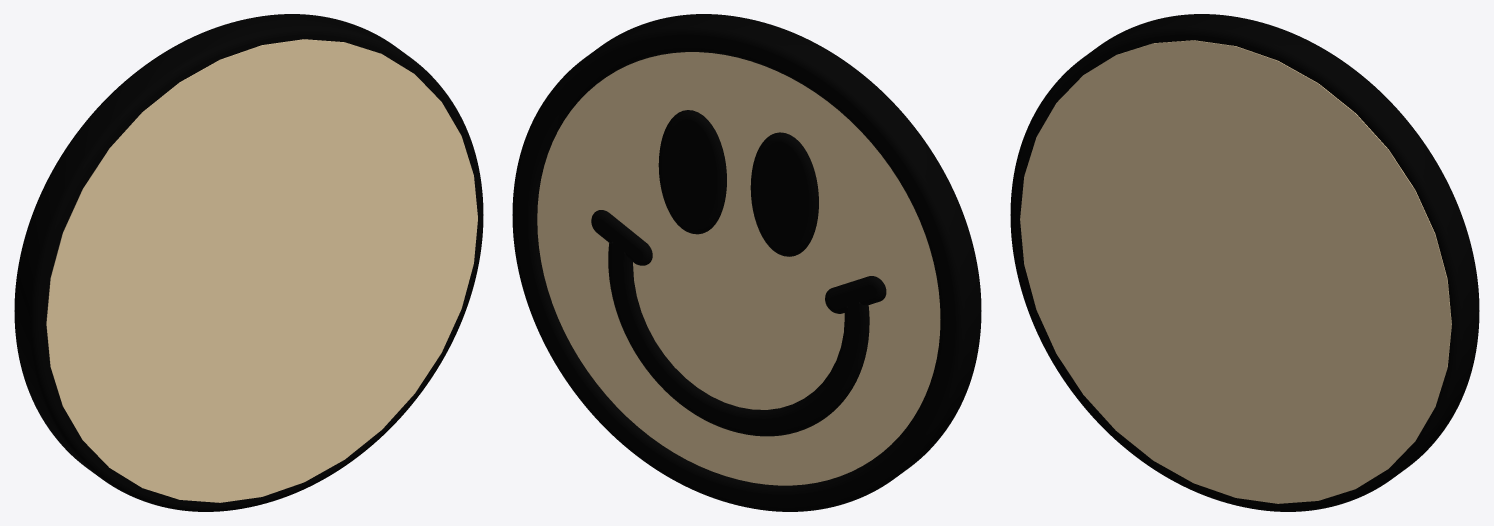
The model's file is Coin.fbx.
3 renders of one model, left to right at view 1: azimuth 30°, elevation 25°; view 2: azimuth 150°, elevation 25°; view 3: azimuth 330°, elevation 25°, orthographic.
Parts seen in each view (by area): view 1: Cylinder, Curve; view 2: Cylinder, Curve; view 3: Cylinder, Curve.
Part boxes in pixels (left/top/right/bottom): Cylinder: left=46, top=39, right=477, bottom=502; Curve: left=14, top=14, right=483, bottom=511; Cylinder: left=537, top=52, right=940, bottom=485; Curve: left=512, top=14, right=981, bottom=511; Cylinder: left=1020, top=40, right=1451, bottom=503; Curve: left=1010, top=14, right=1479, bottom=511.
Size of the model in its own units: 102 by 102 by 8.68.
